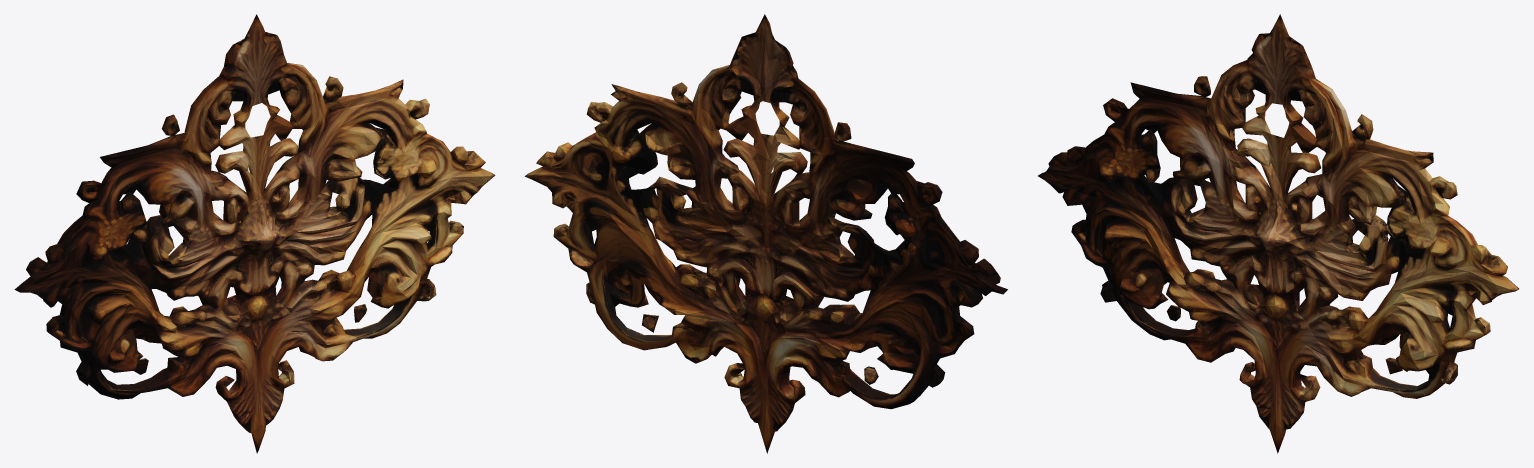
The model's file is wooden-wall-art-vintage.jpeg.glb.
3 views of the same model, side by side, from view 1: azimuth 30°, elevation 25°; view 2: azimuth 150°, elevation 25°; view 3: azimuth 330°, elevation 25° (orthographic).
Parts seen in each view (by area): view 1: world; view 2: world; view 3: world.
Part boxes in pixels (left/top/right/bottom): world: left=14, top=14, right=495, bottom=453; world: left=525, top=14, right=1007, bottom=453; world: left=1038, top=14, right=1518, bottom=453.
Bounding box in the file's own units: 0.9999 × 0.8786 × 0.0833.
Materials: 1 (1 with a texture image).
